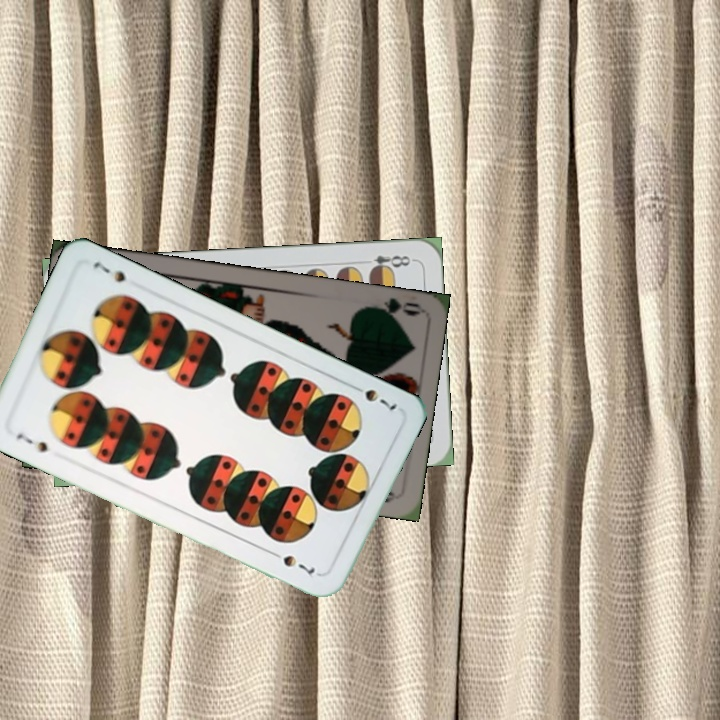E8: (366, 251, 416, 275)
GO: (362, 294, 422, 322)
S7: (346, 380, 400, 414), (12, 428, 51, 455)
